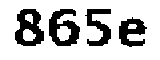5: (82, 7, 116, 49)
6: (44, 6, 80, 51)
8: (8, 5, 44, 53)
e: (118, 18, 149, 49)
